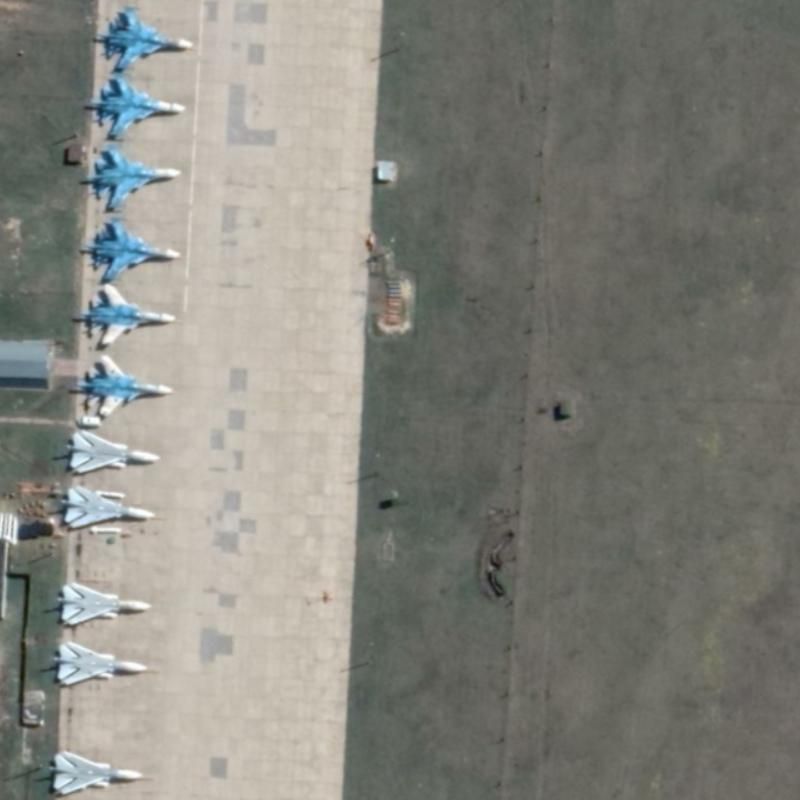A19: (93, 3, 195, 71), (81, 212, 183, 280), (72, 351, 174, 417), (86, 71, 187, 137), (84, 140, 182, 208), (76, 281, 176, 345)
A20: (63, 426, 162, 475), (46, 747, 144, 796), (51, 638, 149, 686), (55, 579, 152, 627), (58, 482, 156, 529)
